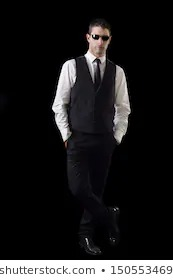F_belt: (72, 129, 96, 134)
F_shirt: (51, 49, 131, 138)
F_tie: (91, 57, 101, 85)
